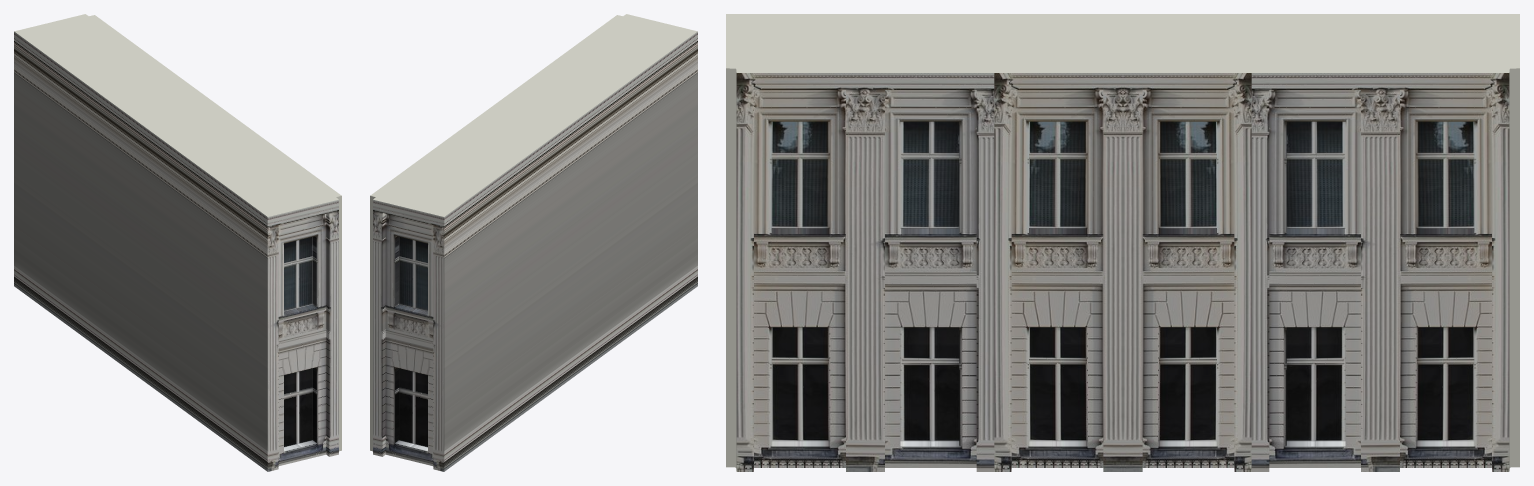
File: Fancybuilding4.fbx
3 views of the same model, side by side, from view 1: azimuth 30°, elevation 25°; view 2: azimuth 150°, elevation 25°; view 3: azimuth 270°, elevation 25° (orthographic). The views are drawn at different scales.
Parts seen in each view (by area): view 1: T_Fancybuilding3; view 2: T_Fancybuilding3; view 3: T_Fancybuilding3.
Boxes of the visible parts, left/top/right/bottom form: T_Fancybuilding3: left=14, top=14, right=341, bottom=471; T_Fancybuilding3: left=370, top=14, right=697, bottom=471; T_Fancybuilding3: left=726, top=14, right=1519, bottom=471.
Bounding box in the file's own units: 82.89 × 261 × 471.
